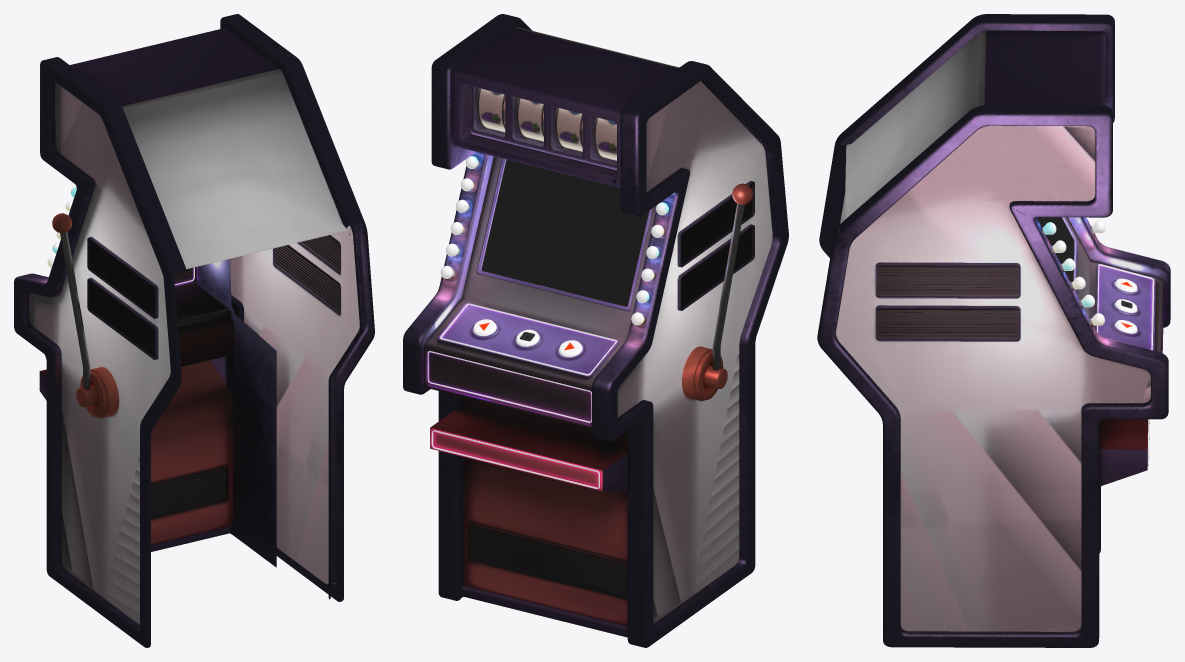
File: SlotMCompressedCombined.glb
3 views of the same model, side by side, from view 1: azimuth 30°, elevation 25°; view 2: azimuth 150°, elevation 25°; view 3: azimuth 270°, elevation 25° (orthographic). The views are drawn at different scales.
Parts seen in each view (by area): view 1: Sphere.008; view 2: Sphere.008, Sphere.009, Sphere.010, Sphere.011, Sphere.019, Sphere.013; view 3: Sphere.008, Sphere.009.
Boxes of the visible parts, x1,y1,x2,y2 form: Sphere.008: (14, 14, 374, 647); Sphere.008: (403, 14, 788, 647); Sphere.009: (481, 159, 649, 306); Sphere.010: (476, 88, 505, 132); Sphere.011: (554, 107, 582, 151); Sphere.019: (516, 98, 543, 141); Sphere.013: (593, 117, 616, 160); Sphere.008: (817, 14, 1170, 647); Sphere.009: (1037, 217, 1074, 281).
Size of the model in its own units: 1.2 by 2.42 by 1.45.
3 materials, 2 textured.
